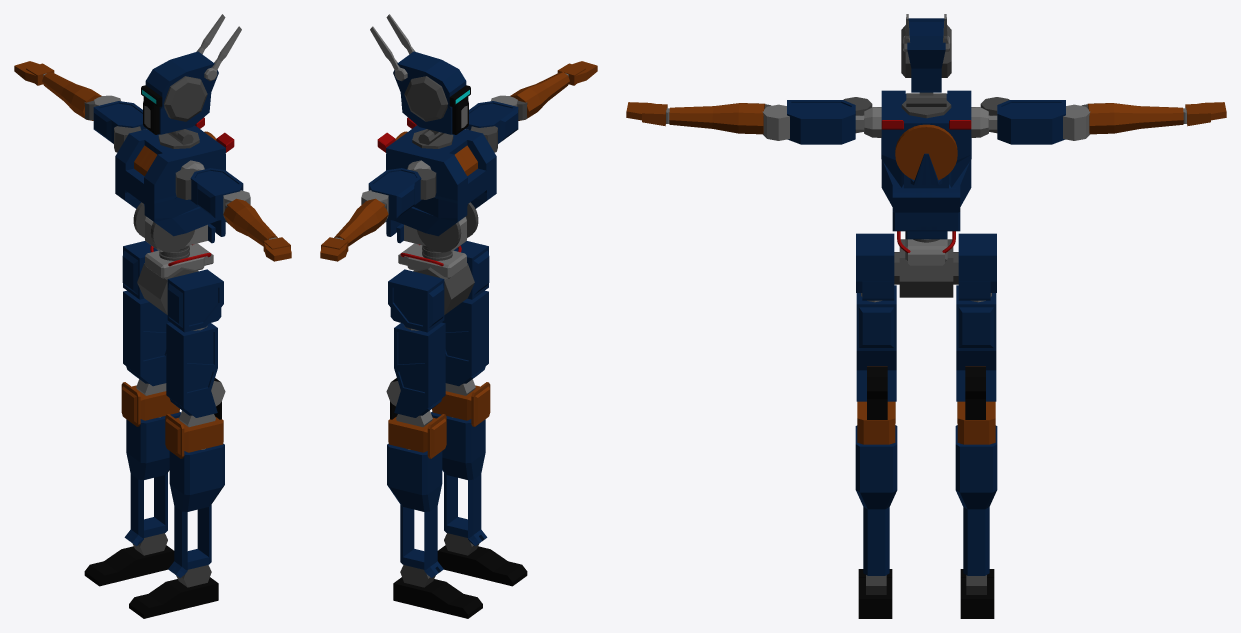
The model's file is robottest.fbx.
3 views of the same model, side by side, from view 1: azimuth 30°, elevation 25°; view 2: azimuth 150°, elevation 25°; view 3: azimuth 270°, elevation 25° (orthographic). The views are drawn at different scales.
Visible parts, largest first — view 1: Cube; view 2: Cube; view 3: Cube.
Part boxes in pixels (<box>): Cube: <box>14,14,291,618</box>; Cube: <box>320,14,597,618</box>; Cube: <box>626,14,1226,618</box>.
Size of the model in its own units: 121 by 530 by 459.
